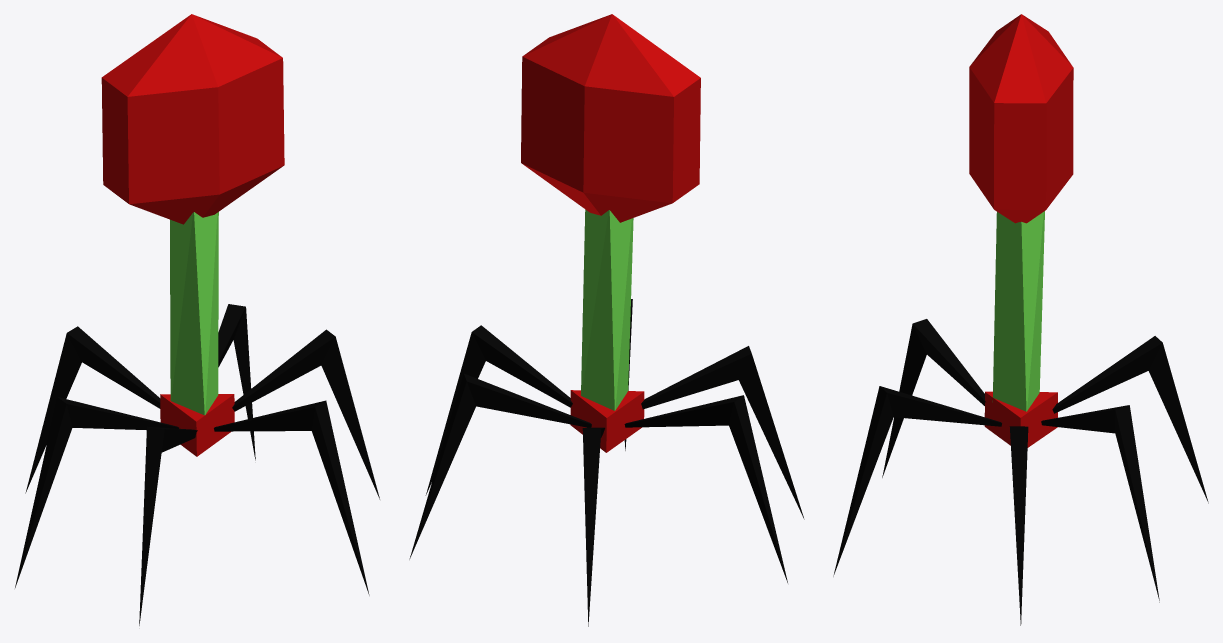
File: Virus_T4.fbx
The picture shows the model from 3 angles, left to right: view 1: azimuth 30°, elevation 25°; view 2: azimuth 150°, elevation 25°; view 3: azimuth 270°, elevation 25°; orthographic projection.
Parts seen in each view (by area): view 1: VirusT4; view 2: VirusT4; view 3: VirusT4.
Part boxes in pixels (<box>): VirusT4: <box>15,14,379,625</box>; VirusT4: <box>409,14,804,626</box>; VirusT4: <box>833,14,1208,625</box>.
Size of the model in its own units: 0.4435 by 0.6169 by 0.4008.
